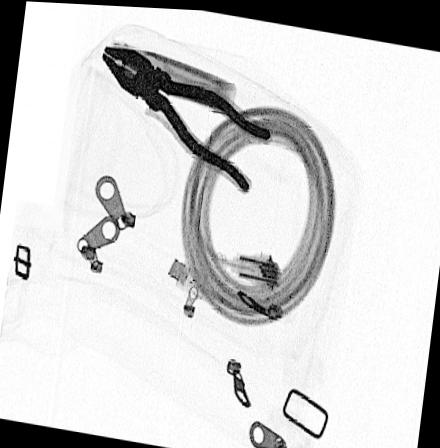Pliers: (98, 42, 275, 197)
